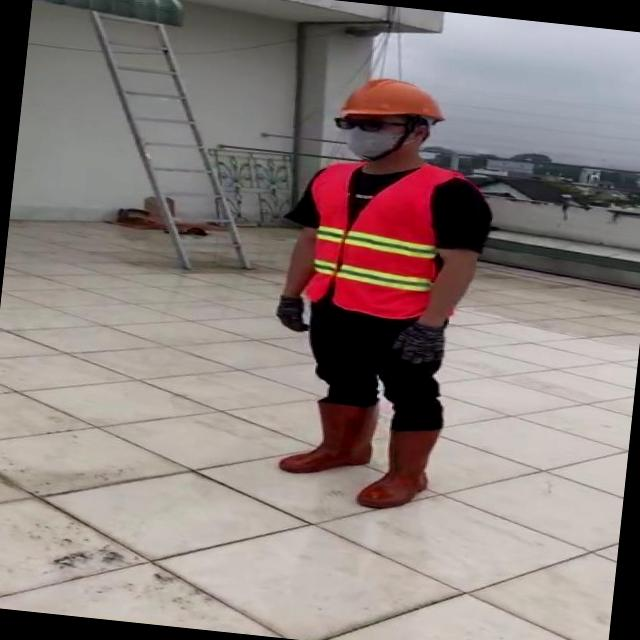boots: (276, 396, 381, 482), (358, 420, 442, 516)
gloves: (391, 313, 448, 372), (270, 290, 310, 334)
vest: (293, 156, 482, 327)
